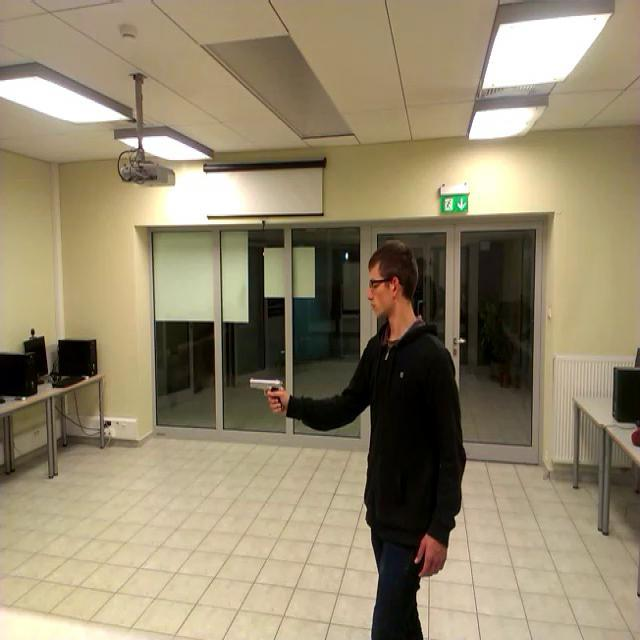Gun: (248, 376, 282, 408)
